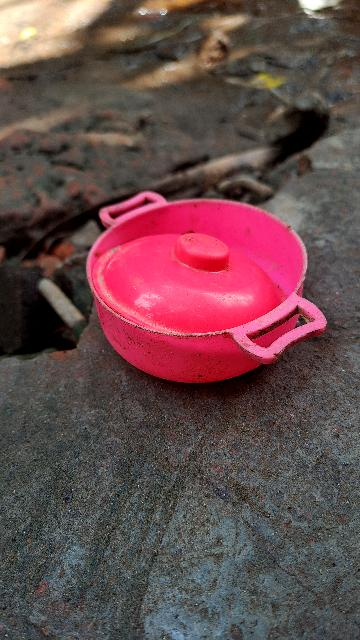hardplastic: (88, 196, 324, 388)
